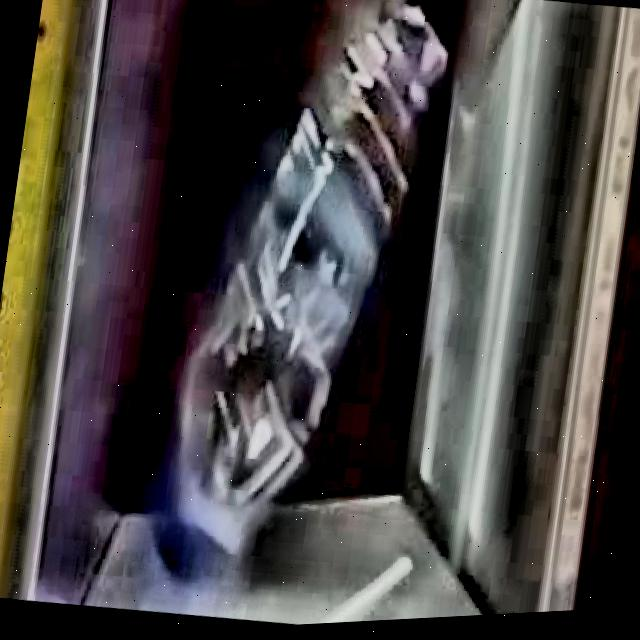plastic: (176, 1, 446, 557)
